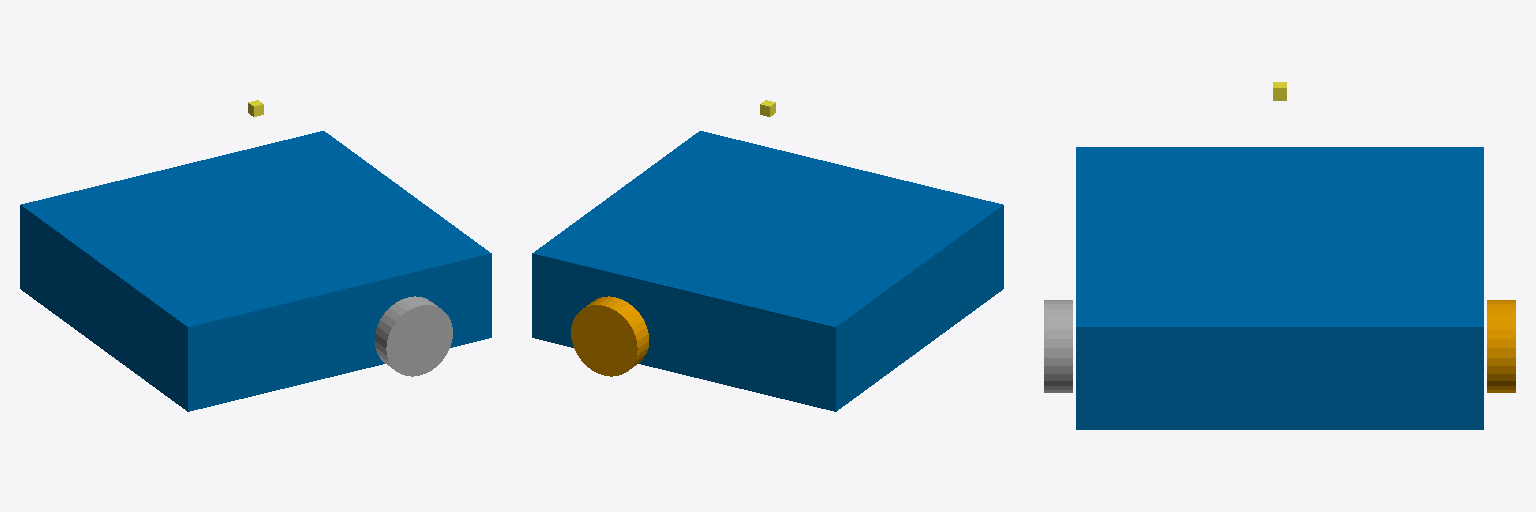
robot.urdf — ZOSimSimpleBot:
<?xml version="1.0"?>
<robot  name="ZOSimSimpleBot" >
 <link  name="base_link" />
 <joint  type="revolute"  name="right_wheel_motor" >
  <parent  link="base_link" />
  <child  link="right_wheel" />
  <origin  xyz="0.066 -0.156 -0.014"  rpy="-1.5707963267948963 0.0 -0.0" />
  <axis  xyz="0.0 -0.0 1.0000000000000002" />
 </joint>
 <joint  type="revolute"  name="left_wheel_motor" >
  <parent  link="base_link" />
  <child  link="left_wheel" />
  <origin  xyz="0.066 0.156 -0.014"  rpy="-1.5707963267948963 0.0 -0.0" />
  <axis  xyz="0.0 -0.0 1.0000000000000002" />
 </joint>
 <link  name="lidar_2d" />
 <joint  type="fixed"  name="base_link_to_lidar_2d" >
  <origin  xyz="0.0 -0.0 0.1652"  rpy="-0.0 0.0 -0.0" />
  <parent  link="base_link" />
  <child  link="lidar_2d" />
 </joint>
 <link  name="rgb_camera" />
 <joint  type="fixed"  name="base_link_to_rgb_camera" >
  <origin  xyz="0.0 -0.0 0.182199985"  rpy="3.1415925661670134 0.0 -0.0" />
  <parent  link="base_link" />
  <child  link="rgb_camera" />
 </joint>
 <link  name="Cube" >
  <visual >
   <geometry >
    <box  size="0.01 0.009999999999999997 0.009999999999999997" />
   </geometry>
  </visual>
 </link>
 <joint  type="fixed"  name="rgb_camera_to_Cube" >
  <origin  xyz="0.0 -0.0 0.0285"  rpy="-0.0 0.0 -0.0" />
  <parent  link="rgb_camera" />
  <child  link="Cube" />
 </joint>
 <link  name="main_chassis_body" >
  <visual >
   <geometry >
    <box  size="0.3 0.287 0.08" />
   </geometry>
  </visual>
 </link>
 <joint  type="fixed"  name="base_link_to_main_chassis_body" >
  <origin  xyz="0.0 -0.0 0.0"  rpy="-0.0 0.0 -0.0" />
  <parent  link="base_link" />
  <child  link="main_chassis_body" />
 </joint>
 <link  name="right_castor" >
  <visual >
   <geometry >
    <sphere  radius="0.005" />
   </geometry>
  </visual>
 </link>
 <joint  type="fixed"  name="base_link_to_right_castor" >
  <origin  xyz="-0.1379 -0.1094 -0.042"  rpy="-0.0 0.0 -0.0" />
  <parent  link="base_link" />
  <child  link="right_castor" />
 </joint>
 <link  name="left_castor" >
  <visual >
   <geometry >
    <sphere  radius="0.005" />
   </geometry>
  </visual>
 </link>
 <joint  type="fixed"  name="base_link_to_left_castor" >
  <origin  xyz="-0.1379 0.1094 -0.042"  rpy="-0.0 0.0 -0.0" />
  <parent  link="base_link" />
  <child  link="left_castor" />
 </joint>
 <link  name="right_wheel" >
  <visual >
   <geometry >
    <cylinder  length="0.019999999999999997"  radius="0.032999999999999995" />
   </geometry>
  </visual>
 </link>
 <link  name="left_wheel" >
  <visual >
   <geometry >
    <cylinder  length="0.019999999999999997"  radius="0.032999999999999995" />
   </geometry>
  </visual>
 </link>
</robot>

--- What the picture shows (computed from the rendered views, not written in the file) ---
The picture shows the robot from 3 angles, left to right: view 1: azimuth 30°, elevation 25°; view 2: azimuth 150°, elevation 25°; view 3: azimuth 270°, elevation 25°; orthographic projection.
Robot: ZOSimSimpleBot — 9 links, 8 joints (2 revolute, 6 fixed); root link base_link; default pose: every joint at zero.
Visible links, largest first — view 1: main_chassis_body, right_wheel; view 2: main_chassis_body, left_wheel; view 3: main_chassis_body, right_wheel, left_wheel.
Boxes of the visible links, <box> form: main_chassis_body: <box>20,131,491,411</box>; right_wheel: <box>375,296,452,376</box>; main_chassis_body: <box>532,131,1003,411</box>; left_wheel: <box>571,296,648,376</box>; main_chassis_body: <box>1076,147,1483,429</box>; right_wheel: <box>1044,300,1072,392</box>; left_wheel: <box>1487,300,1515,392</box>.
Bounding box of the posed robot: 0.3 × 0.332 × 0.2057 m (x, y, z).
Geometry: primitives only (box / cylinder / sphere), no mesh files.